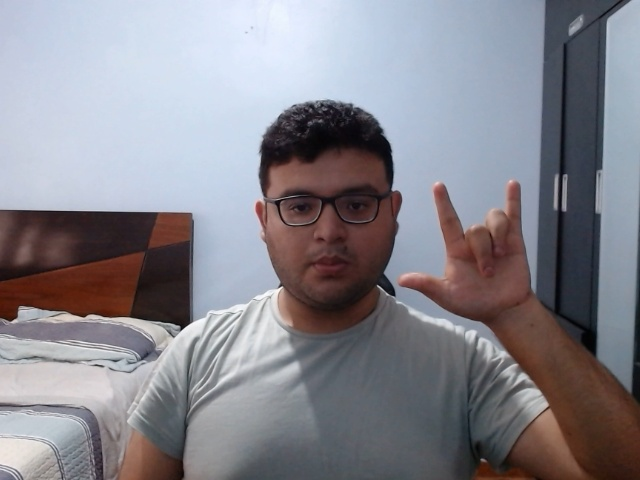I love you: (395, 176, 532, 324)
